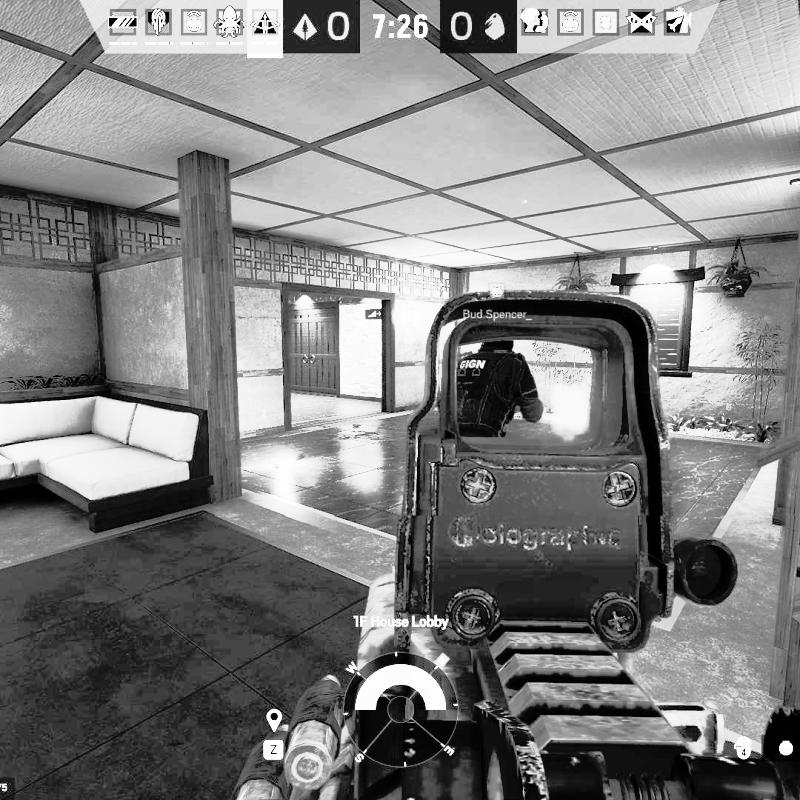Character: (452, 335, 544, 440)
Friend_label: (462, 281, 533, 321)
Head: (479, 339, 516, 352)
